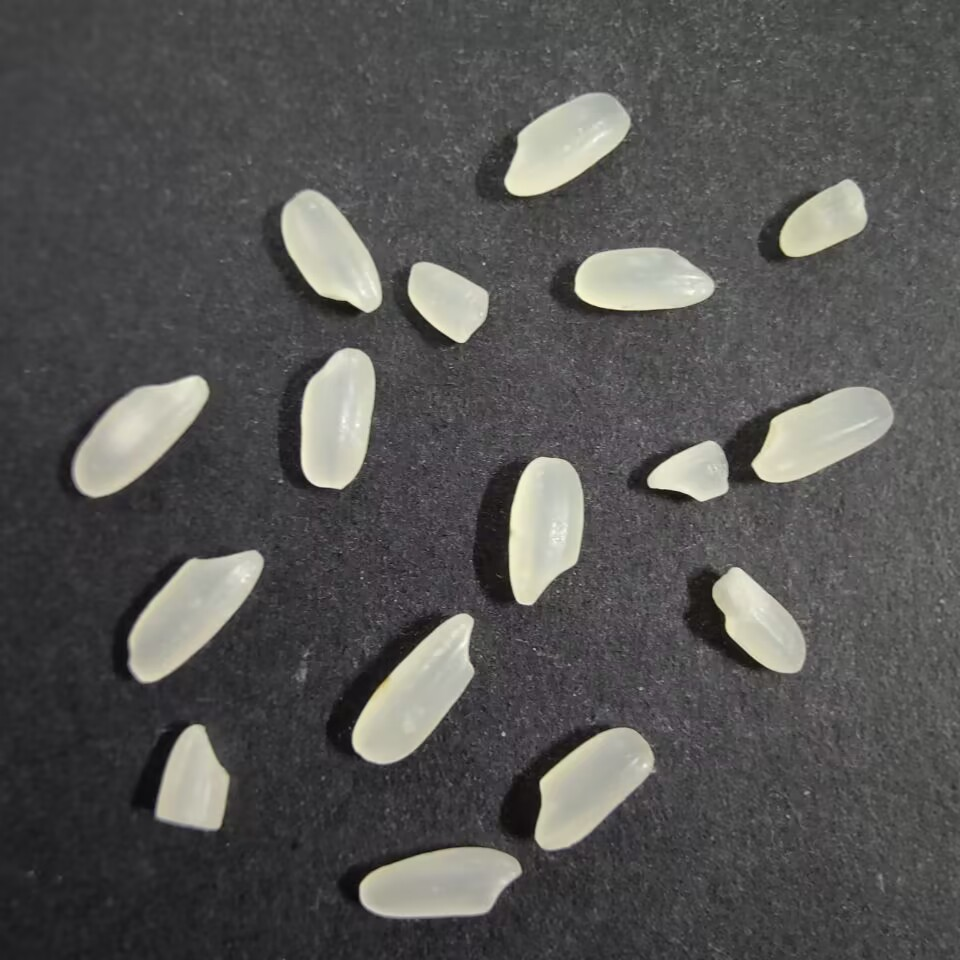broken: (710, 563, 812, 677), (150, 717, 233, 836), (777, 173, 873, 261), (404, 256, 496, 346), (640, 438, 735, 505)
rice: (346, 607, 483, 769), (125, 544, 267, 690), (67, 373, 210, 501), (528, 724, 658, 853), (748, 381, 897, 485), (499, 90, 635, 198), (353, 844, 527, 923), (278, 186, 383, 316), (507, 452, 589, 610), (295, 346, 378, 491), (568, 244, 719, 315)
